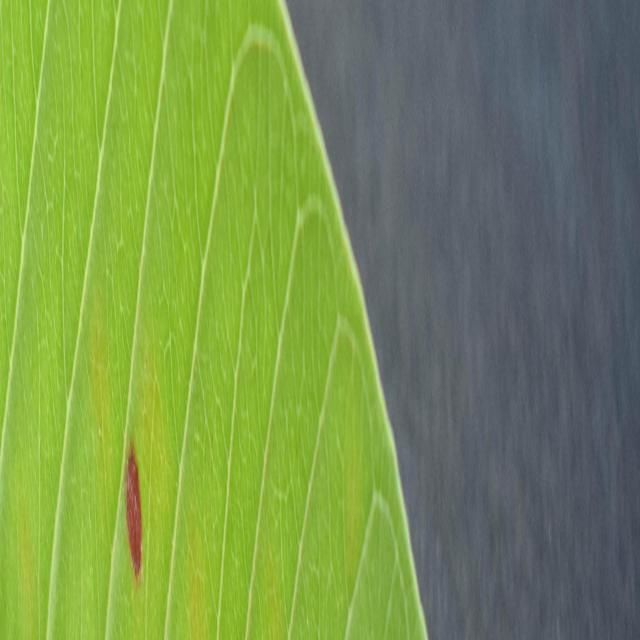Dot: (0, 2, 426, 638)
